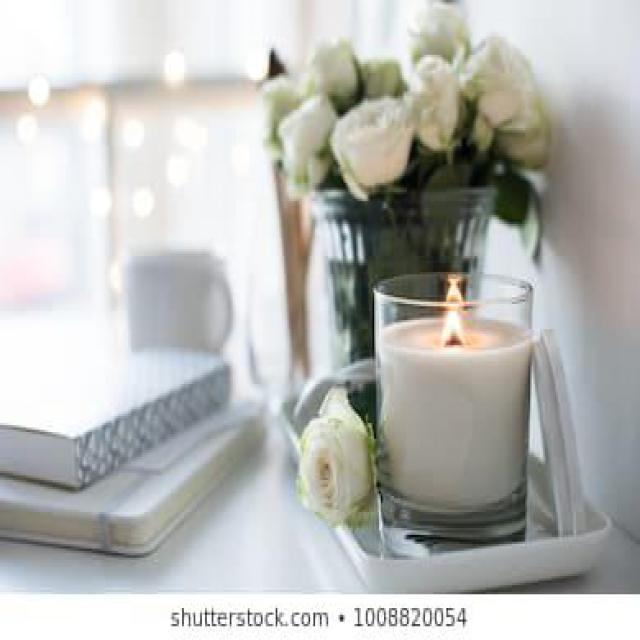Fire: (442, 280, 464, 346)
